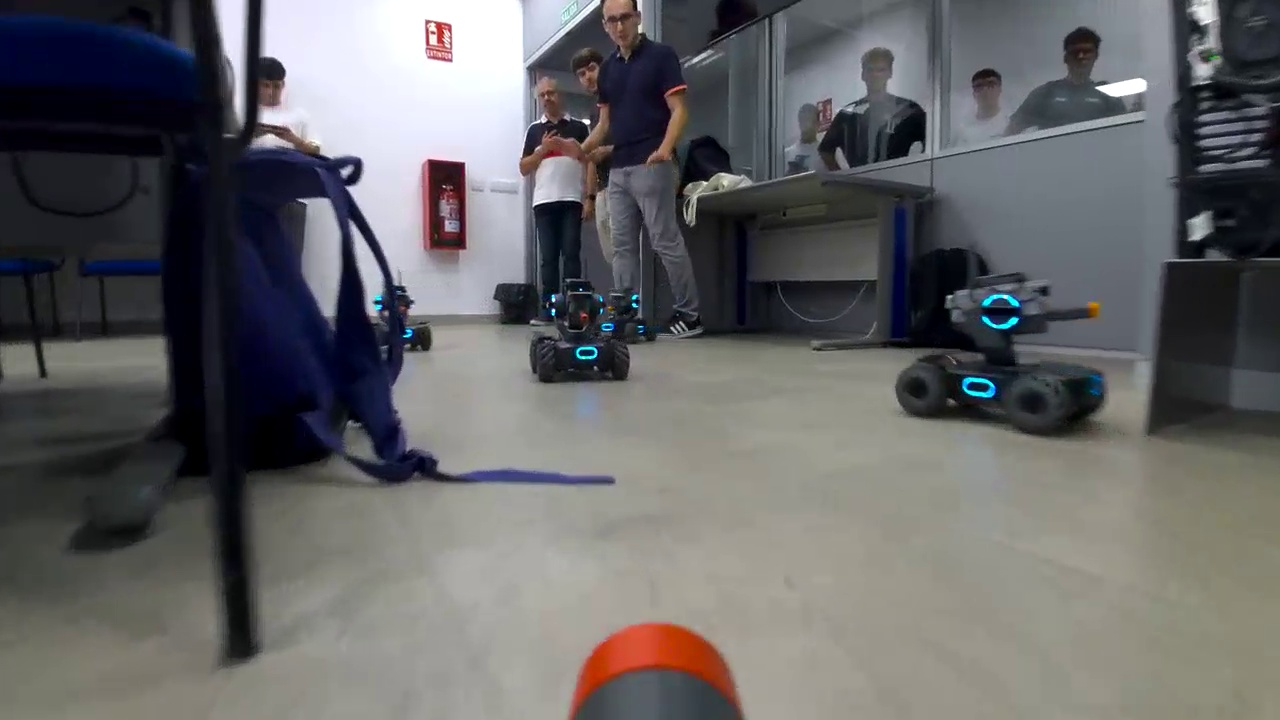robot: (893, 268, 1126, 442), (523, 272, 637, 388), (365, 282, 440, 362), (593, 285, 665, 346)
